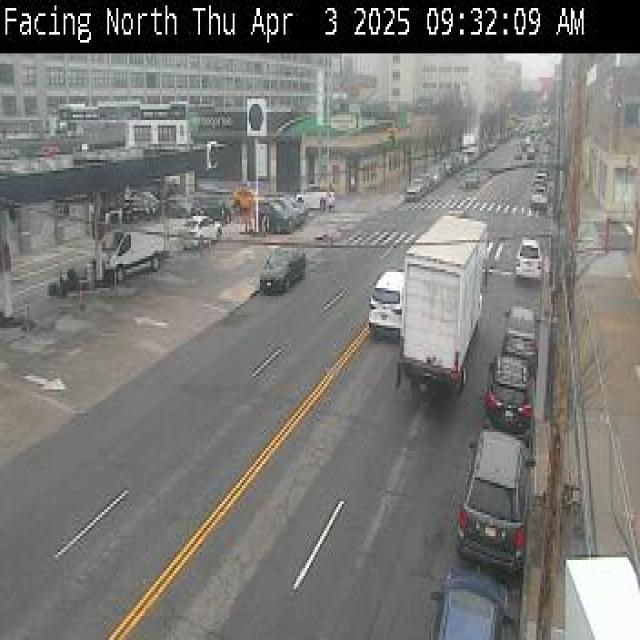open parking: (512, 238, 543, 347)
parkedCars: (378, 356, 606, 634)
